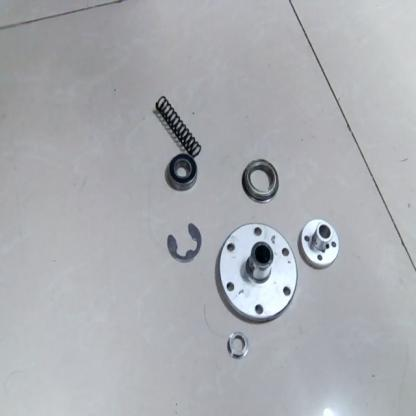FOD: (215, 219, 298, 327), (153, 92, 203, 158), (300, 210, 342, 270), (239, 157, 280, 204), (164, 219, 202, 269), (166, 148, 199, 196), (224, 330, 250, 358)
